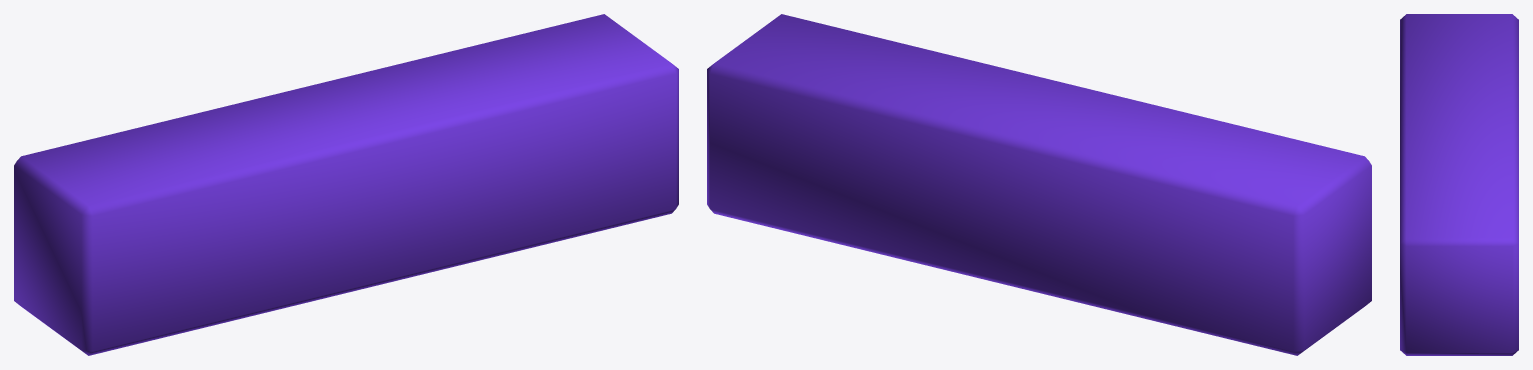
File: wide wall_violet.fbx
The picture shows the model from 3 angles, left to right: view 1: azimuth 30°, elevation 25°; view 2: azimuth 150°, elevation 25°; view 3: azimuth 270°, elevation 25°; orthographic projection. The views are drawn at different scales.
Parts seen in each view (by area): view 1: wide wall_violet; view 2: wide wall_violet; view 3: wide wall_violet.
Boxes of the visible parts, box(x1,y1,x2,y2) form: wide wall_violet: box(14, 14, 678, 355); wide wall_violet: box(707, 14, 1371, 355); wide wall_violet: box(1400, 14, 1518, 355).
Bounding box in the file's own units: 0.8318 × 0.2 × 0.1824.
